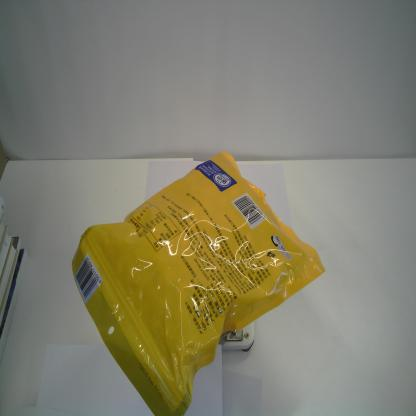Dried Food: (70, 149, 326, 416)
